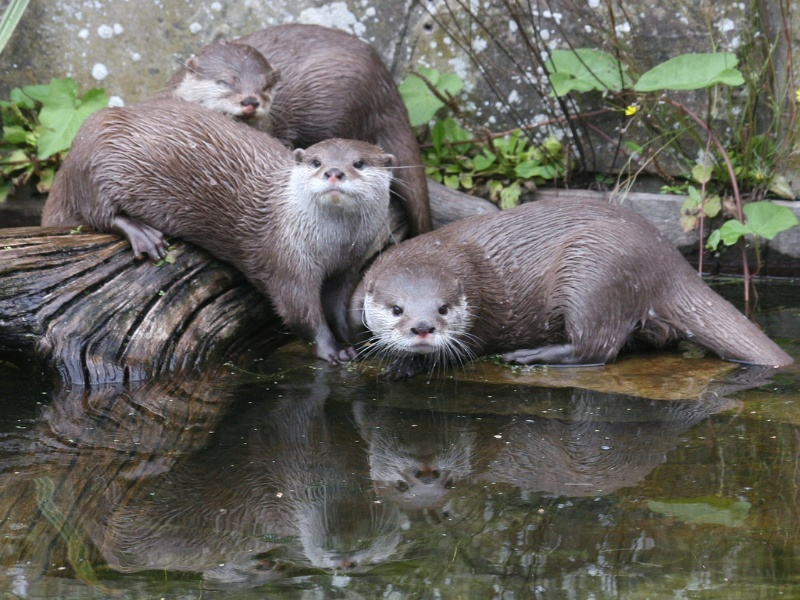minkish: (46, 85, 401, 370), (362, 189, 797, 385), (160, 22, 437, 199)
